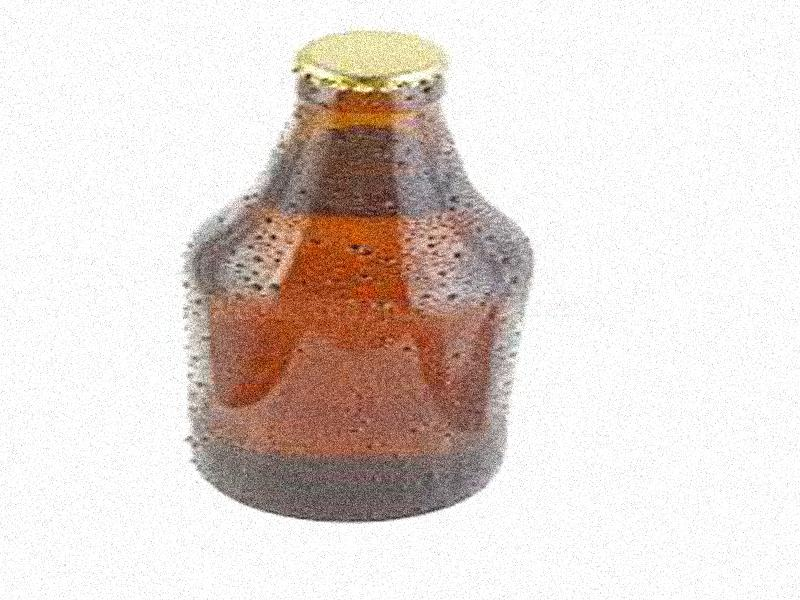Beer: (192, 31, 507, 519)
